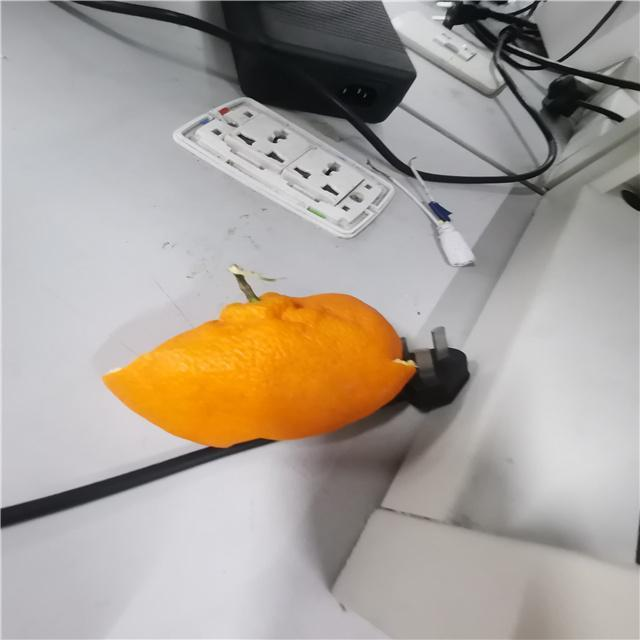orange-peel: (100, 260, 419, 450)
